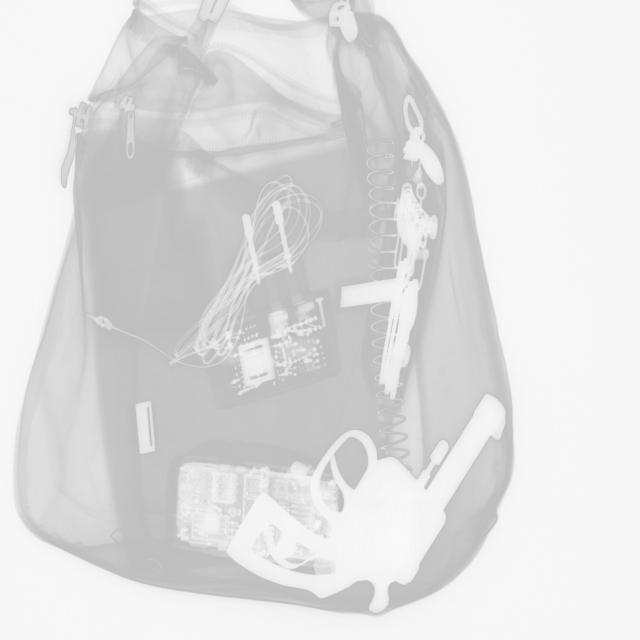pistol: (222, 389, 508, 615)
